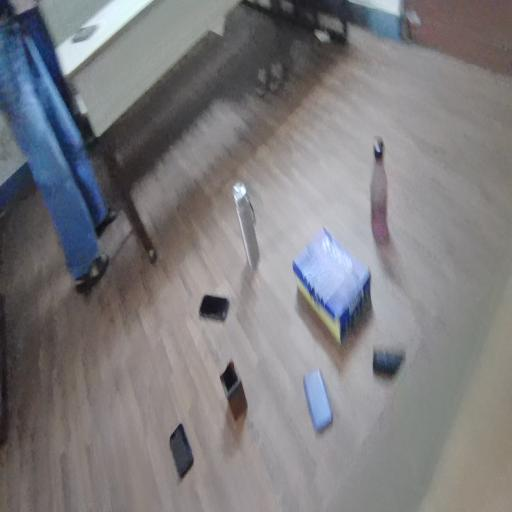Bottle: (367, 157, 412, 242)
